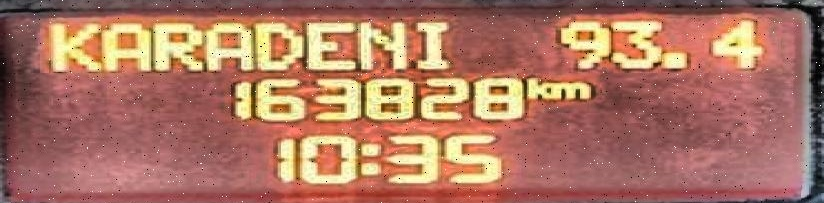-: (660, 46, 691, 71)
0: (297, 133, 353, 184)
1: (271, 132, 295, 185), (227, 79, 249, 124)
2: (415, 75, 468, 119)
3: (609, 15, 660, 72), (384, 129, 435, 184), (311, 76, 357, 121)
4: (706, 19, 773, 74)
5: (442, 131, 497, 186)
6: (251, 77, 302, 123)
8: (362, 76, 415, 121), (471, 75, 522, 120)
9: (558, 17, 609, 70)
X: (44, 19, 99, 73), (300, 19, 355, 71), (100, 18, 151, 73), (151, 18, 202, 72), (355, 19, 406, 70), (251, 19, 300, 70), (202, 19, 246, 73), (408, 19, 453, 70), (355, 138, 380, 179), (549, 79, 591, 100), (522, 74, 546, 103)
